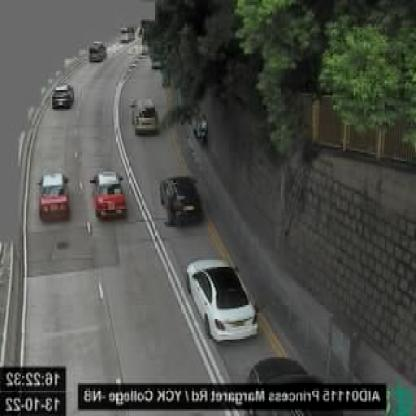Car: (186, 260, 262, 344), (158, 175, 204, 227), (91, 168, 128, 221), (38, 170, 72, 220), (132, 96, 161, 135), (50, 83, 72, 108), (89, 41, 107, 63)
